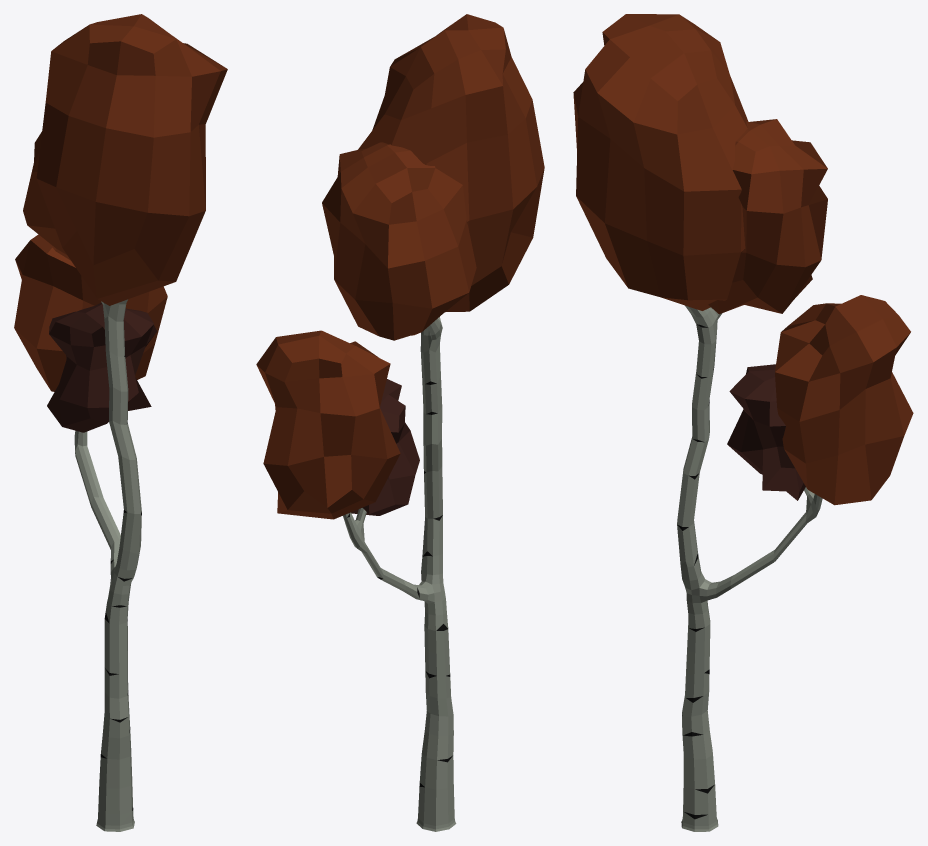
Rendered from BirchTree_Autumn_5_Cube.obj.
3 views of the same model, side by side, from view 1: azimuth 30°, elevation 25°; view 2: azimuth 150°, elevation 25°; view 3: azimuth 270°, elevation 25° (orthographic). The views are drawn at different scales.
Parts seen in each view (by area): view 1: BirchTree_Autumn_5_Cube.080; view 2: BirchTree_Autumn_5_Cube.080; view 3: BirchTree_Autumn_5_Cube.080.
Boxes of the visible parts, x1,y1,x2,y2 form: BirchTree_Autumn_5_Cube.080: [14, 14, 227, 831]; BirchTree_Autumn_5_Cube.080: [256, 14, 544, 831]; BirchTree_Autumn_5_Cube.080: [573, 14, 913, 831].
Size of the model in its own units: 1.19 by 5.01 by 1.93.
